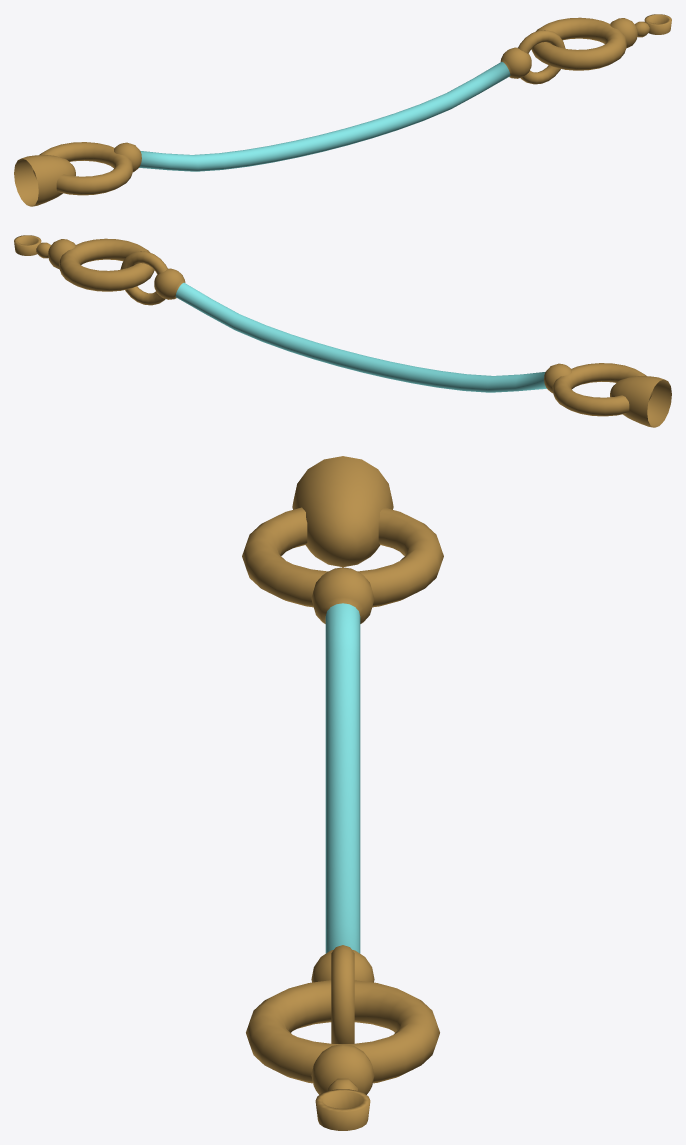
The model's file is casino_entrance_cord.glb.
3 views of the same model, one above another, from view 1: azimuth 30°, elevation 25°; view 2: azimuth 150°, elevation 25°; view 3: azimuth 270°, elevation 25° (orthographic). The views are drawn at different scales.
Visible parts, largest first — view 1: cord; view 2: cord; view 3: cord.
Part boxes in pixels (bbox=[...]): cord: bbox=[14, 14, 671, 206]; cord: bbox=[14, 235, 671, 427]; cord: bbox=[242, 456, 443, 1130].
Bounding box in the file's own units: 2.87 × 0.285 × 0.3902.
